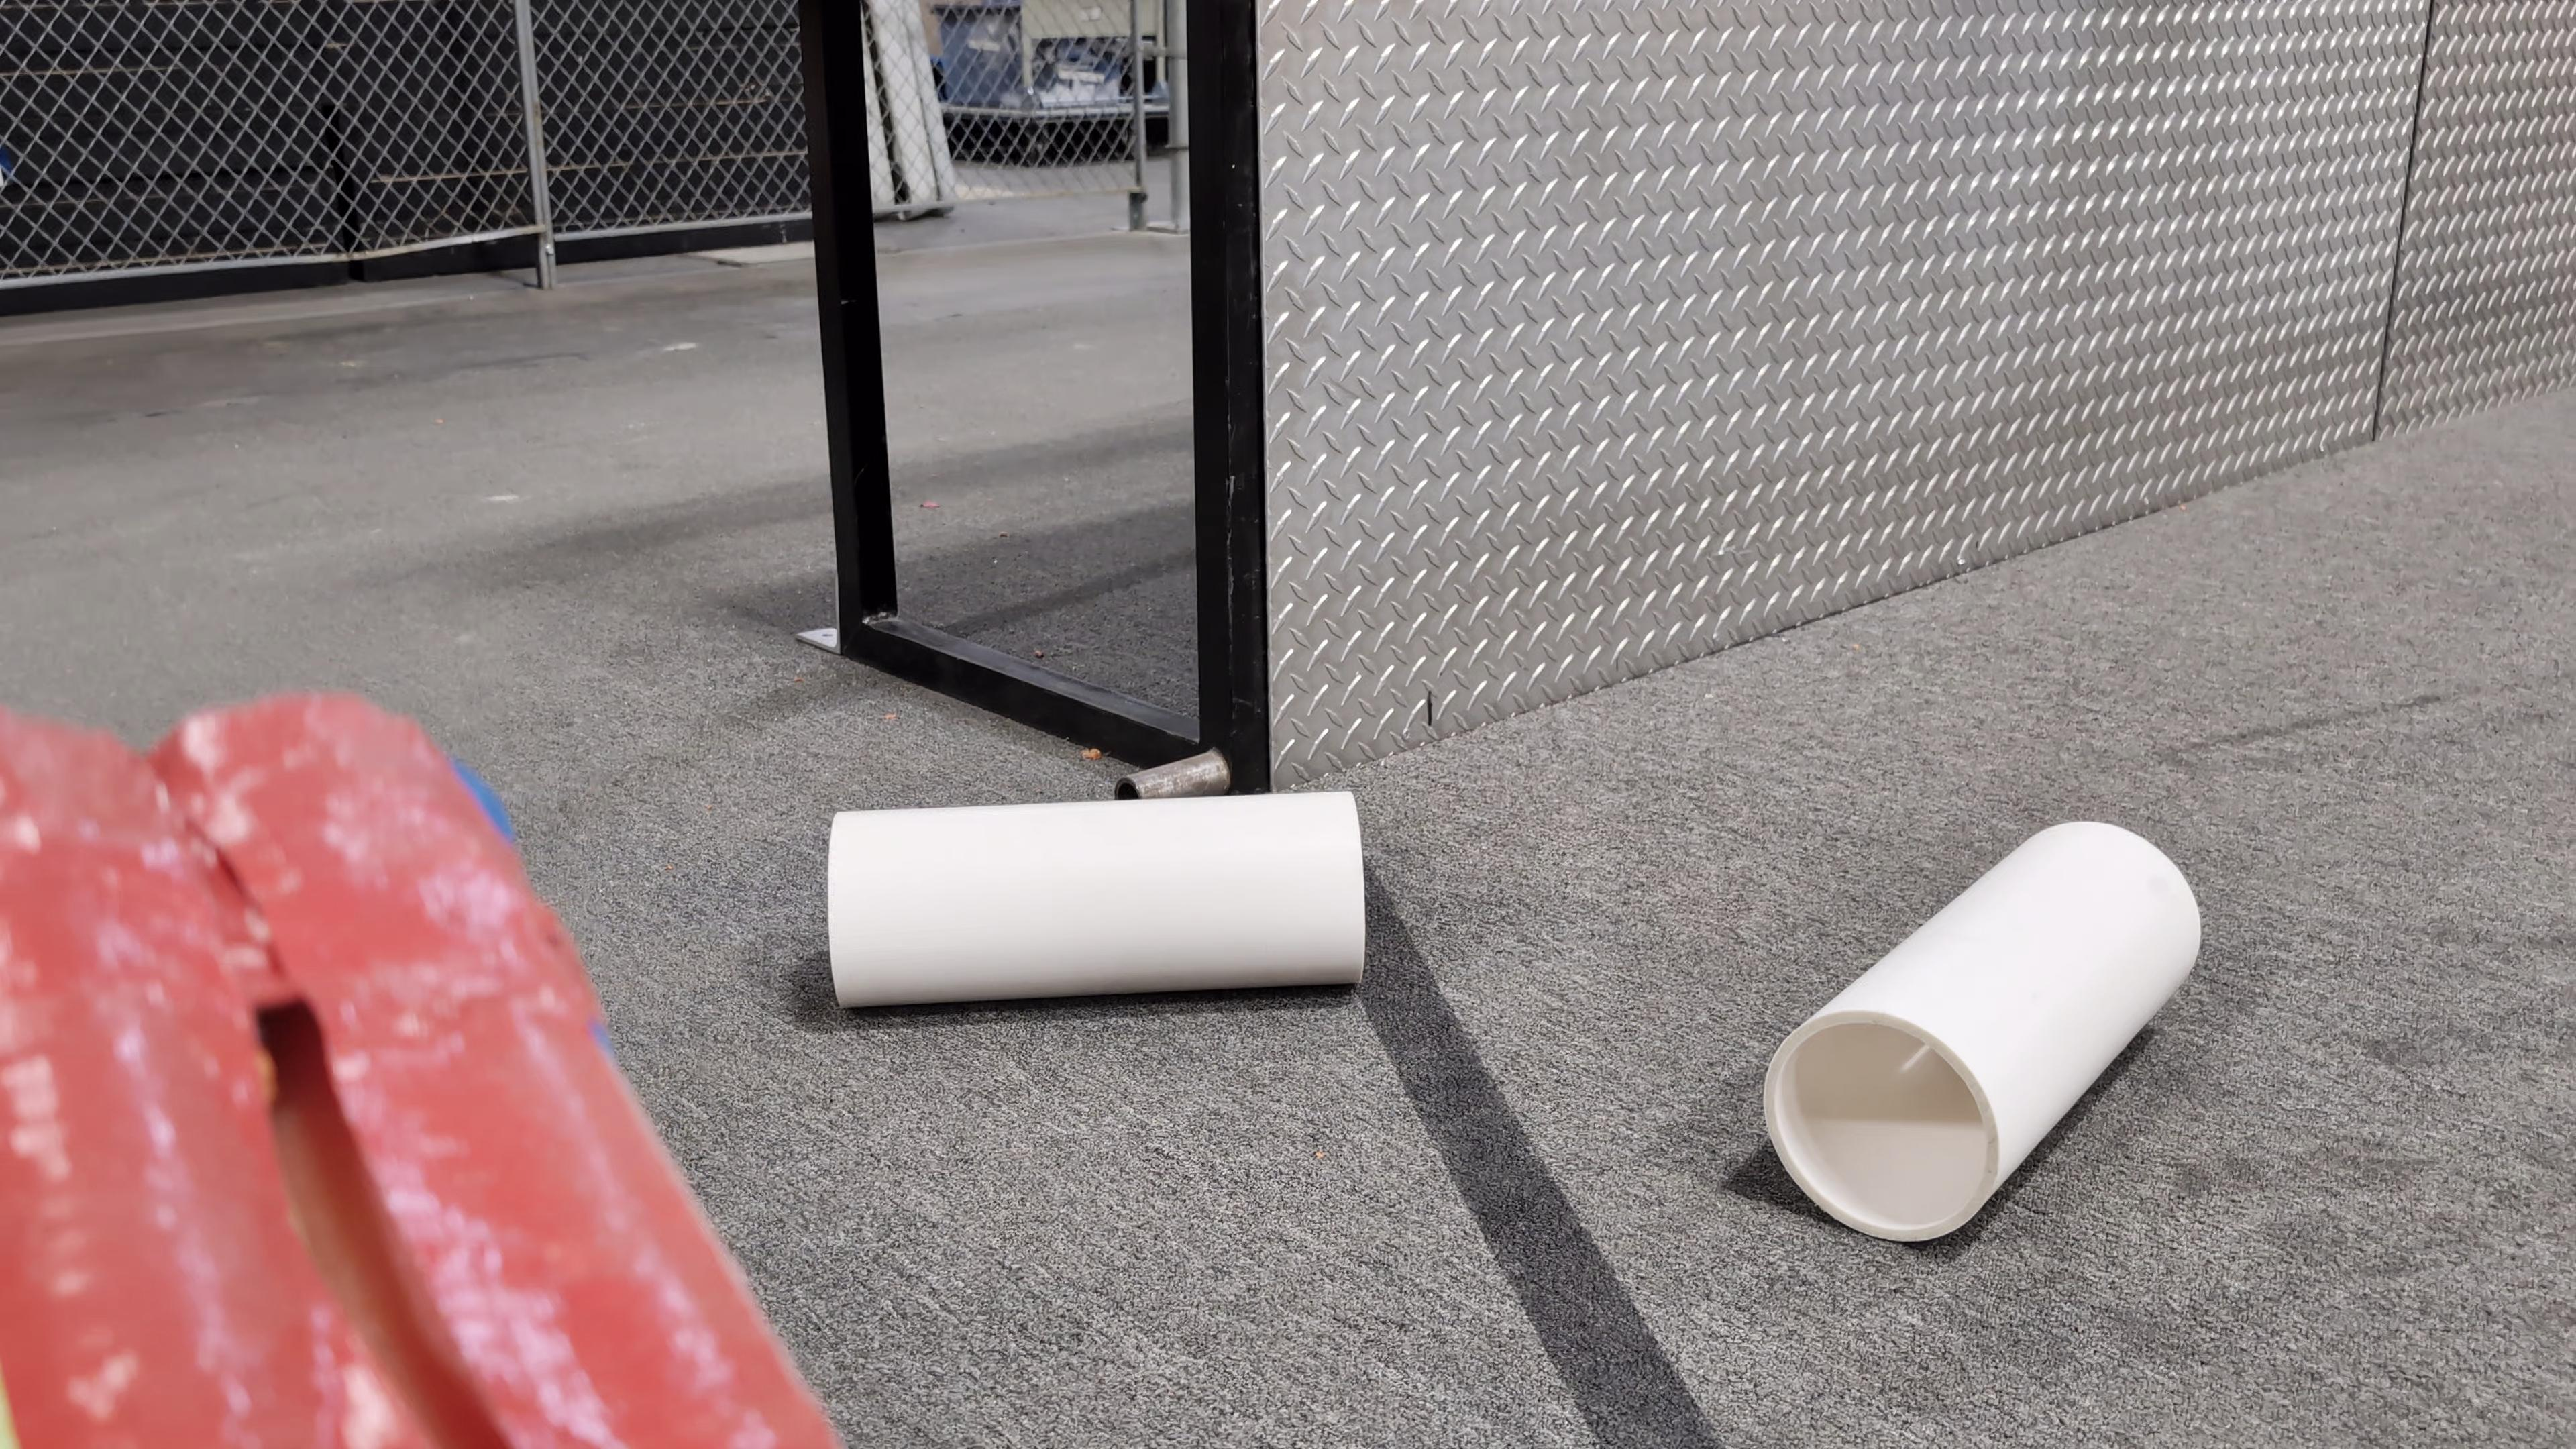coral: (1762, 816, 2203, 1238), (828, 782, 1369, 1007)
